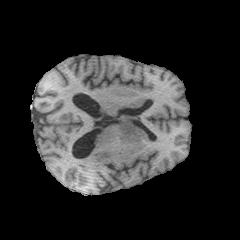glioma: (76, 113, 141, 172)
